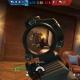Character: (37, 38, 46, 48)
Friend_label: (39, 35, 46, 39)
Head: (41, 39, 44, 43)
